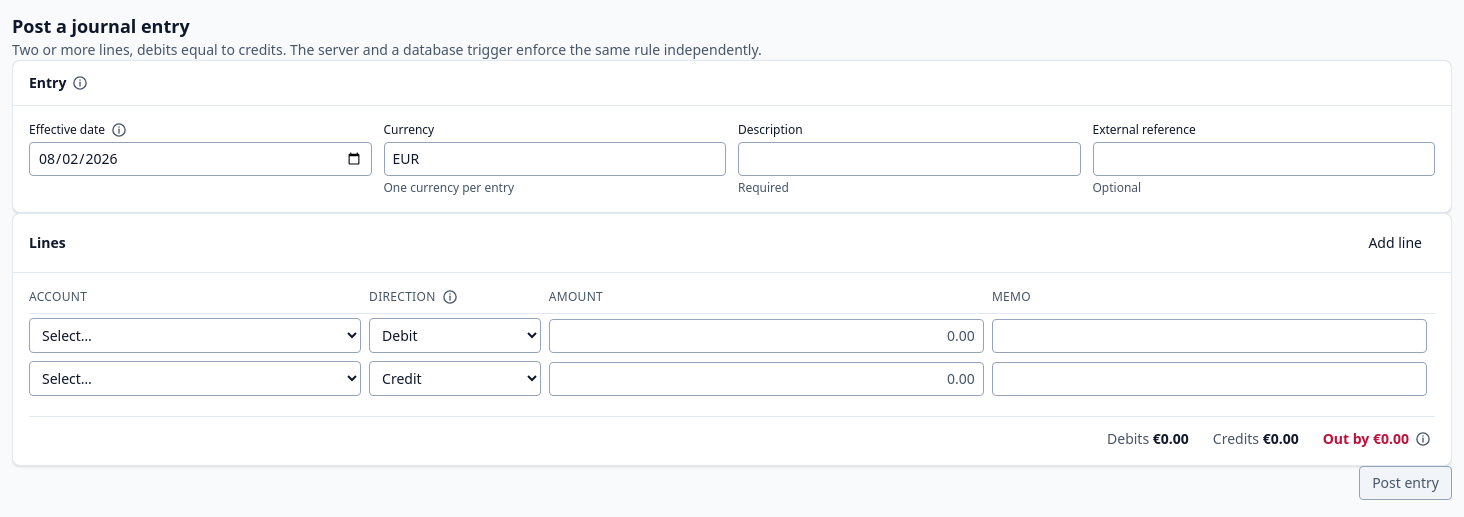
Test case: posting an entry › will not let an unbalanced entry be submitted, and says by how much
Expected: the dropdown named "Account for line 1" is shown, [29,318,361,353]
In the field labelled "Description": (909, 159) [738,142,1080,176], type "Unbalanced"
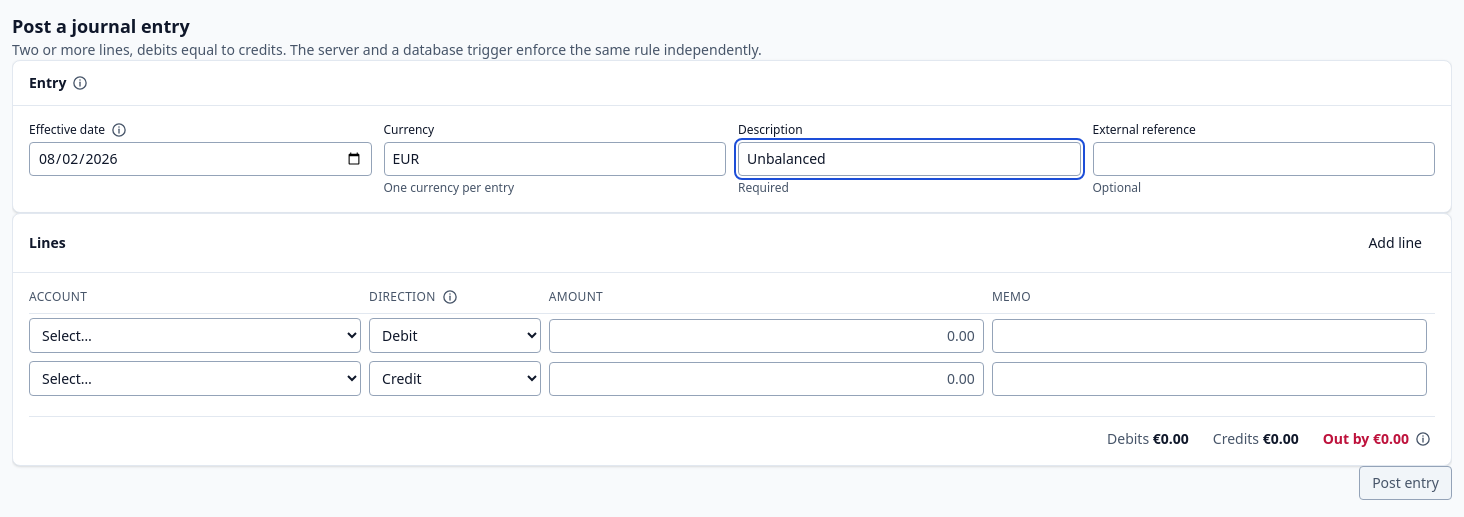
Select "1000 · Cash at Bank" in the dropdown named "Account for line 1": (195, 336) [29,318,361,353]
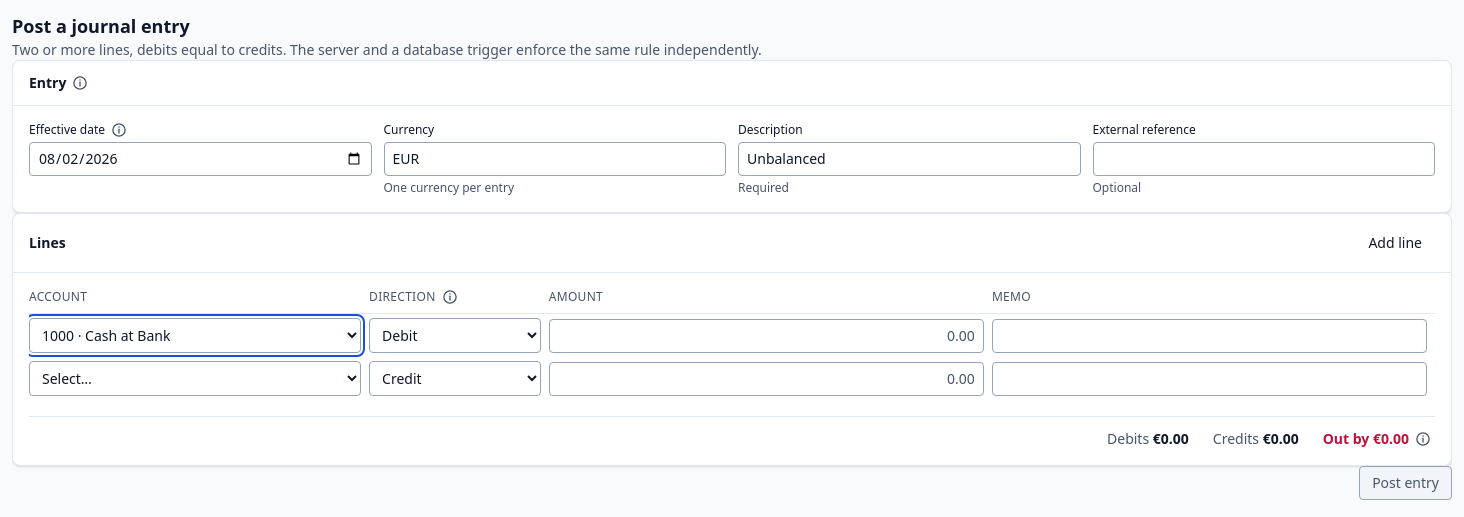
In the field named "Amount for line 1": (766, 336) [549,318,984,352], type "100.00"
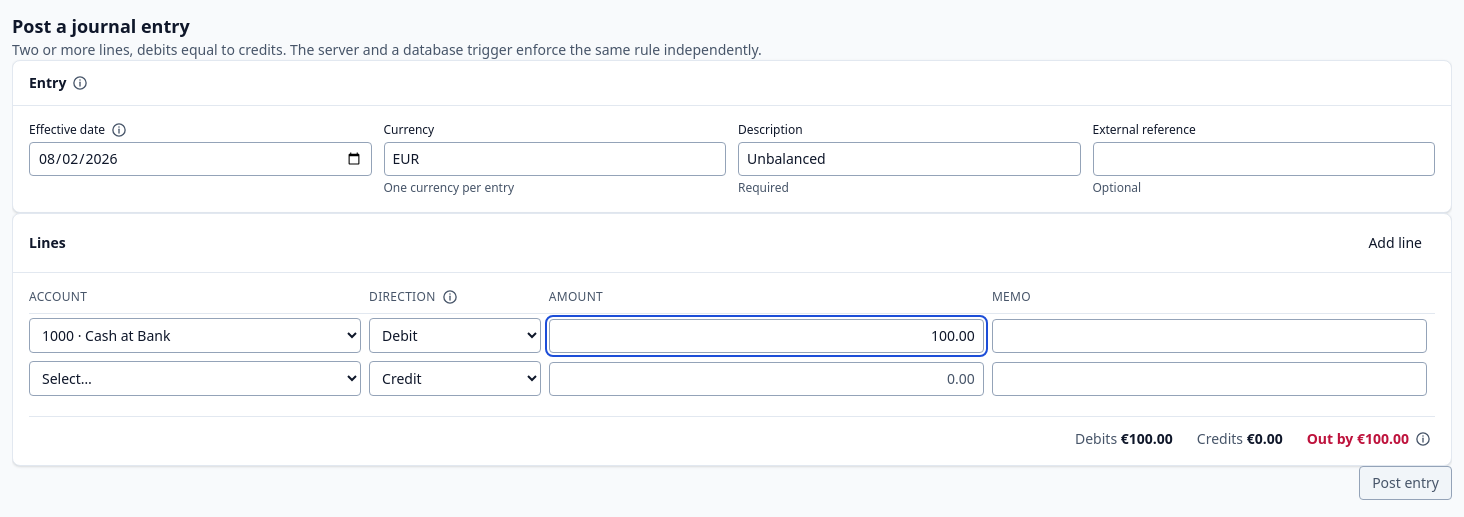
Select "4000 · Revenue" in the dropdown named "Account for line 2": (195, 378) [29,361,361,396]
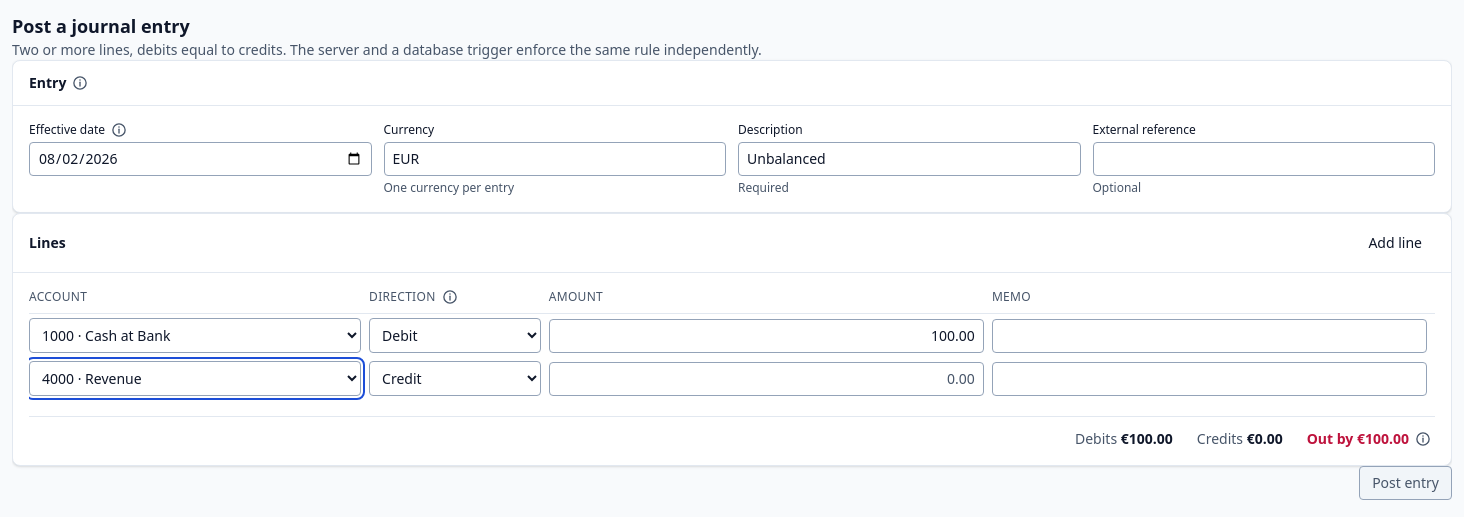
Select "Credit" in the dropdown named "Direction for line 2": (455, 378) [369,361,541,396]
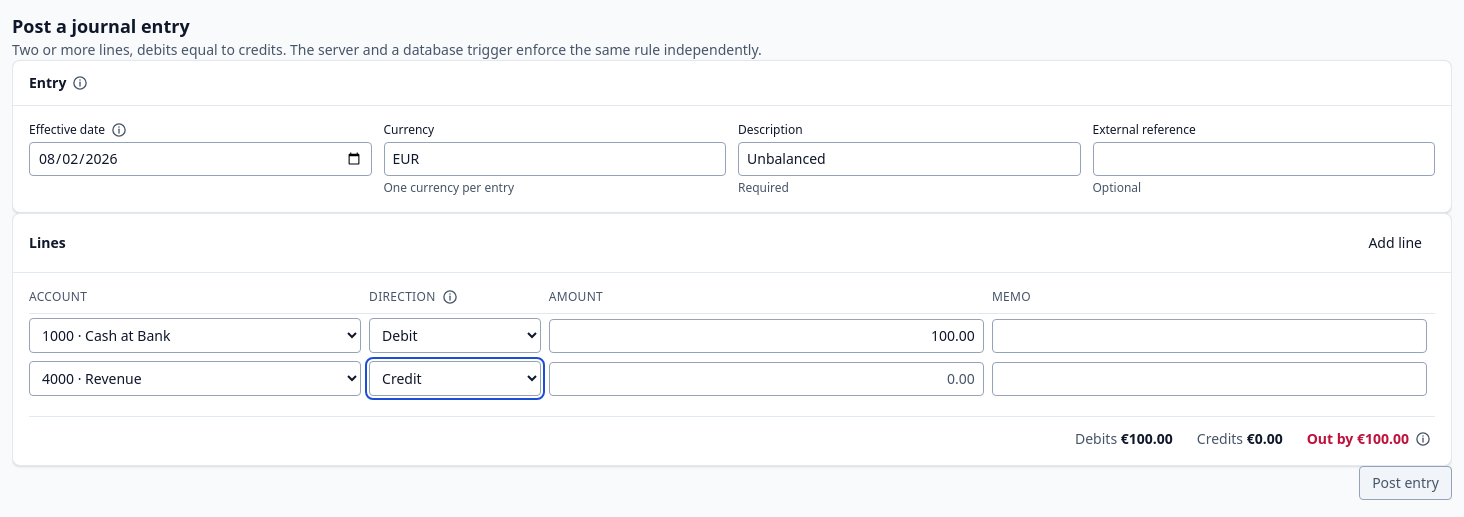
In the field named "Amount for line 2": (766, 378) [549,362,984,396], type "90.00"
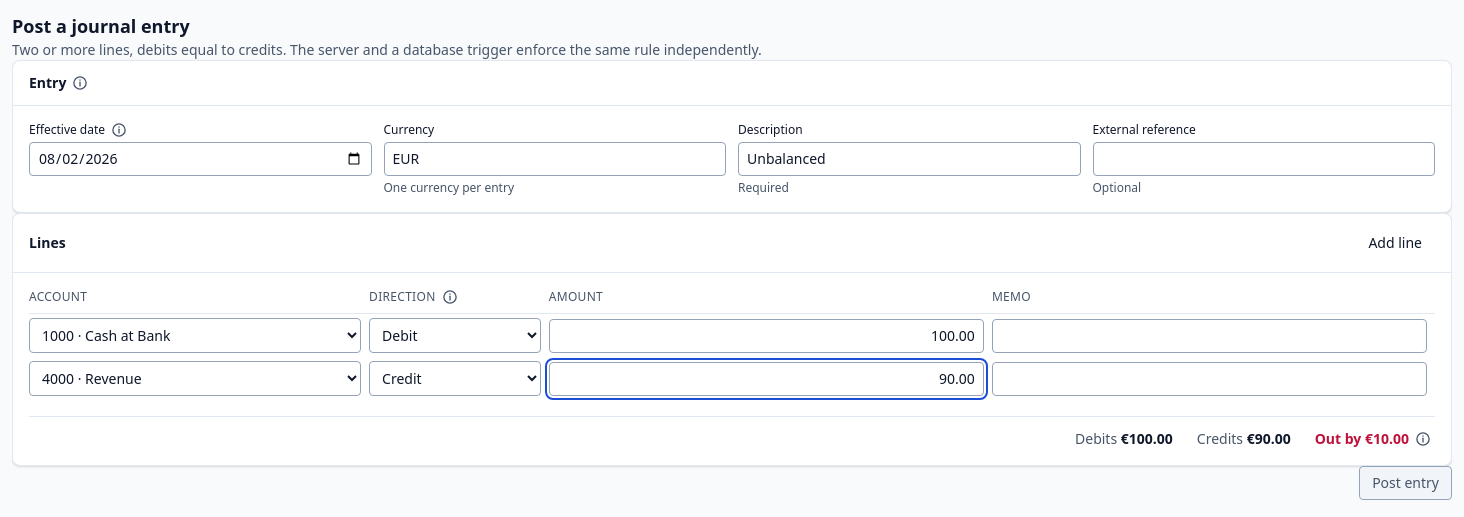
Expected: the button "Post entry" is disabled, [1359,466,1452,500]
Result: the text "Out by €10.00" is shown at [1315,429,1409,449]
